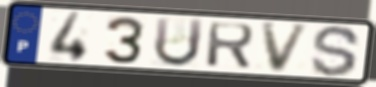3: (103, 15, 147, 65)
4: (47, 10, 91, 65)
R: (204, 21, 257, 71)
S: (309, 24, 363, 79)
U: (151, 16, 206, 69)
V: (259, 22, 313, 75)
